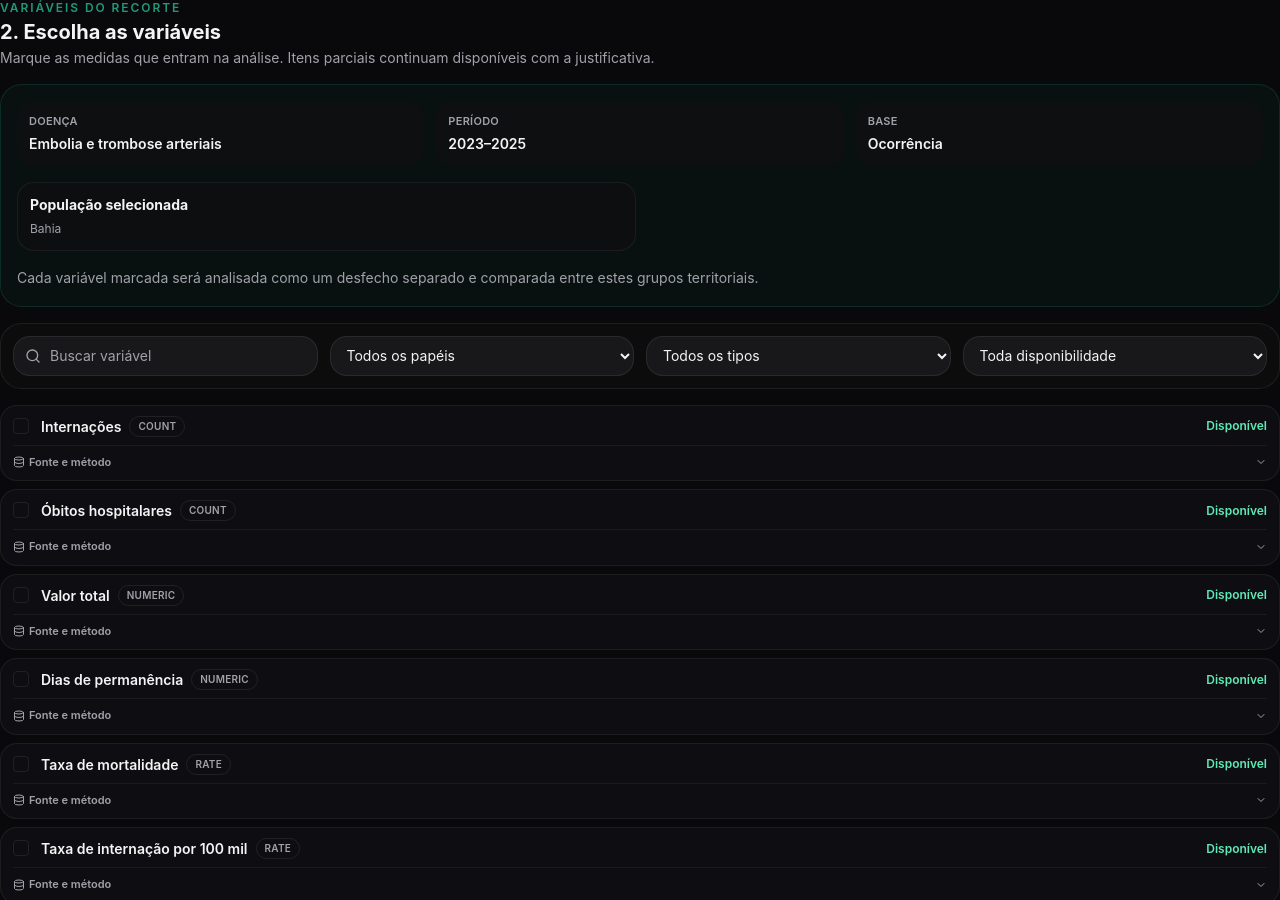
Test: MapVariableList › does not rebrand calculation dependencies as epidemiological exposures
The image size is (1280, 900).
Select "Exposição/contexto (quando disponível)" in the dropdown named "Filtrar por papel" at (482, 356), box [330,336,634,376]
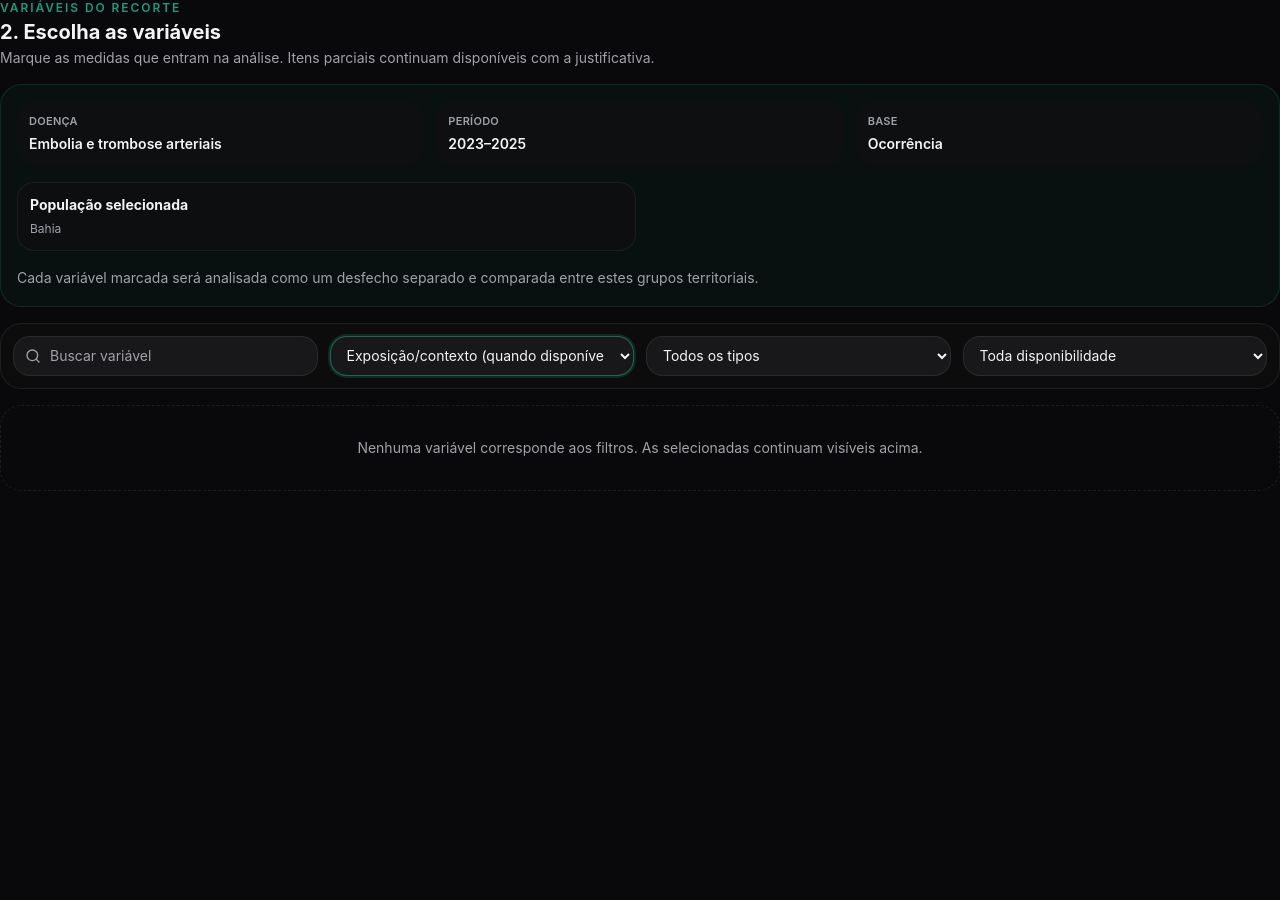
expect the text "Internações" is gone: met
expect the text "Nenhuma variável corresponde aos filtros" is shown: met, box [357,439,923,456]
Select "Desfecho" in the dropdown named "Filtrar por papel" at (482, 356), box [330,336,634,376]
(page scrolled)
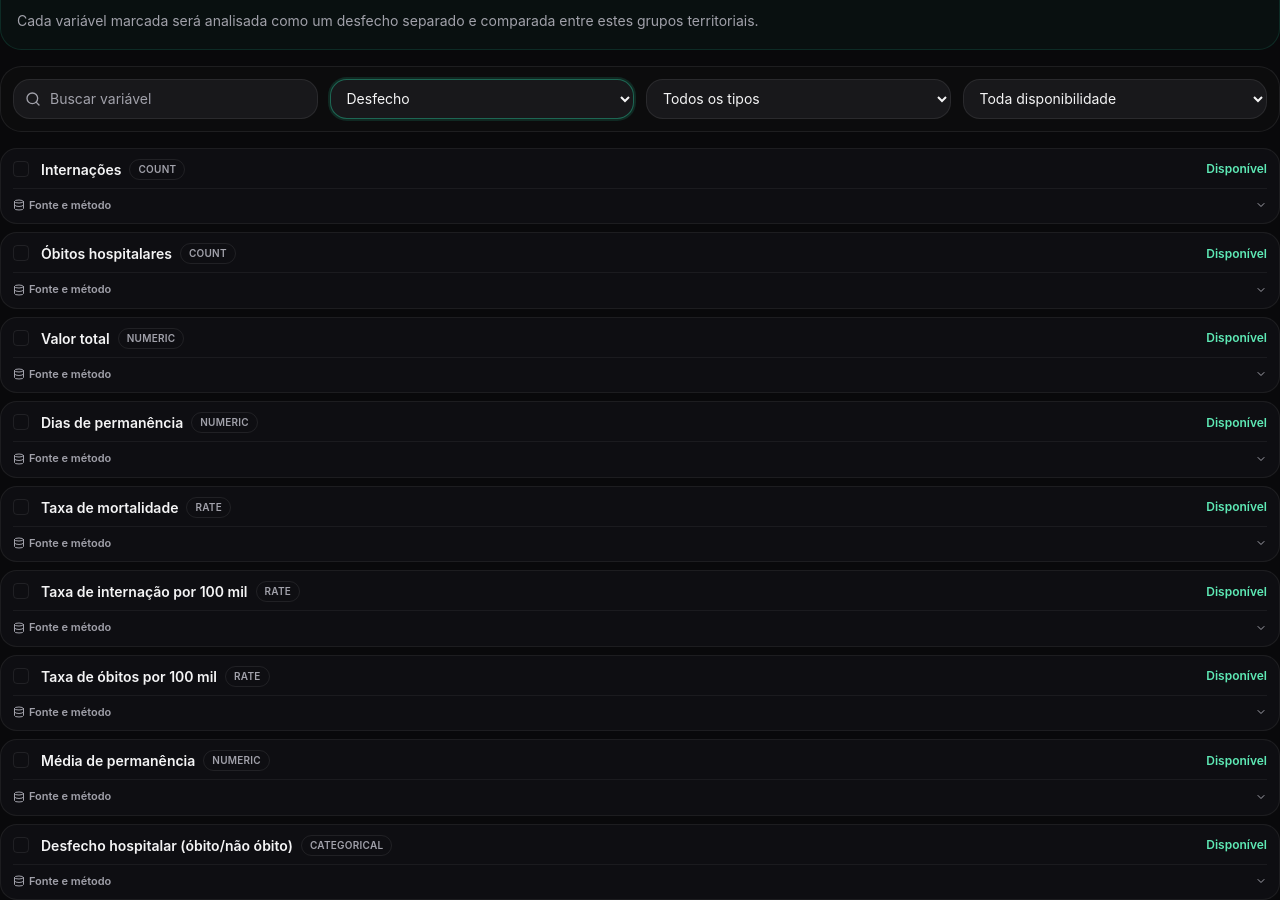
expect the list named "Variáveis para análise" shows "Internações": met, box [41,161,122,178]
expect the number of checkboxes is 9: met
